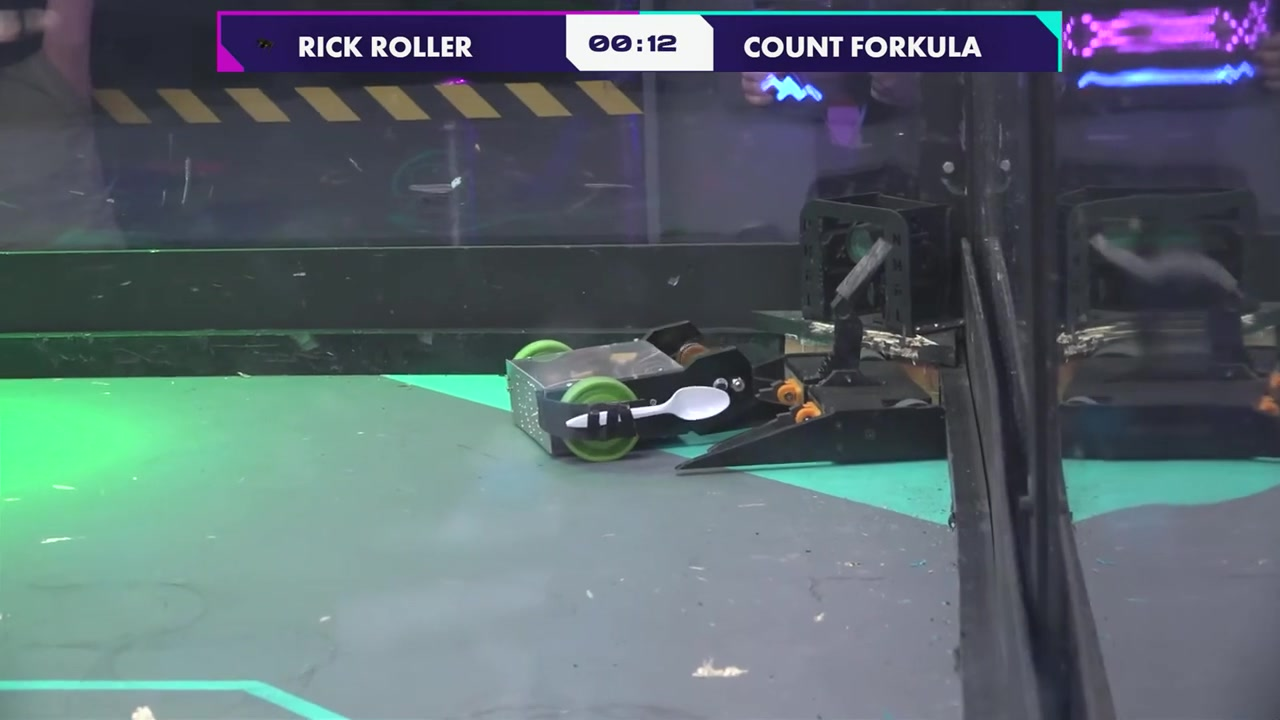combatbot: (506, 331, 827, 462), (675, 352, 945, 475)
